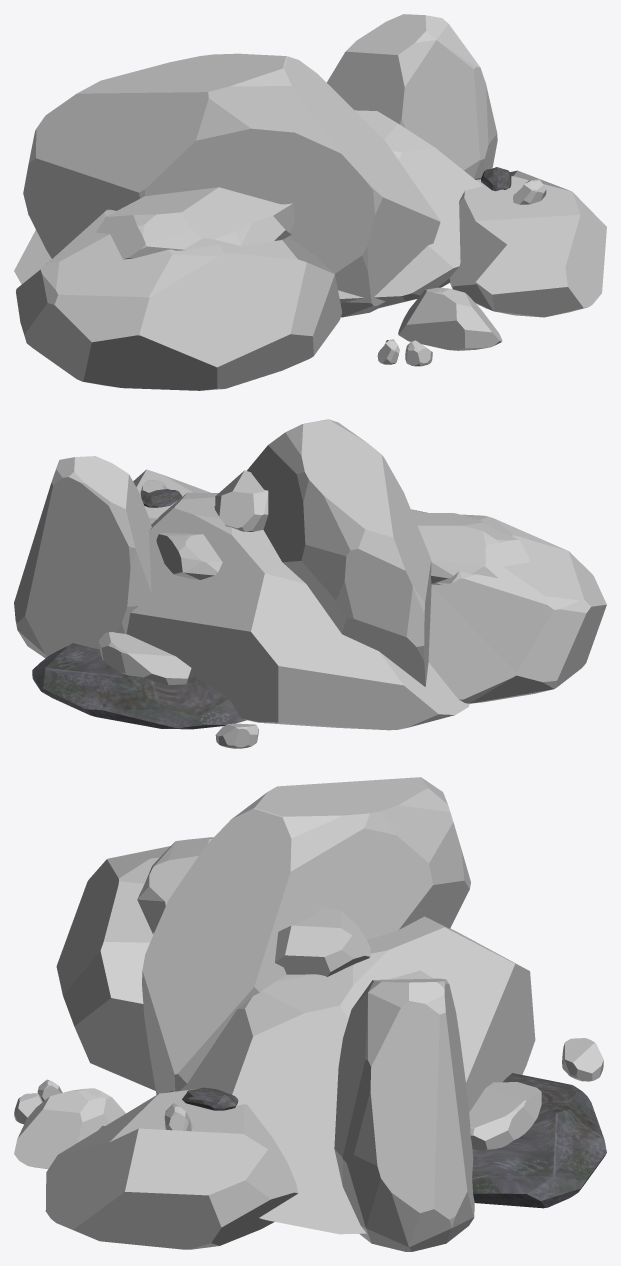
File: rock1.fbx
The picture shows the model from 3 angles, top to bottom: view 1: azimuth 30°, elevation 25°; view 2: azimuth 150°, elevation 25°; view 3: azimuth 270°, elevation 25°; orthographic projection. The views are drawn at different scales.
Visible parts, largest first — view 1: Icosphere.022, Icosphere.029, Icosphere.032, Icosphere.010, Icosphere.028, Icosphere.009, Icosphere.036, Icosphere.038, Icosphere.042, Icosphere.041; view 2: Icosphere.009, Icosphere.022, Icosphere.029, Icosphere.010, Icosphere.018, Icosphere.028, Icosphere.035, Icosphere.033, Icosphere.037, Icosphere.032, Icosphere.034, Icosphere.042; view 3: Icosphere.022, Icosphere.009, Icosphere.010, Icosphere.032, Icosphere.029, Icosphere.018, Icosphere.036, Icosphere.033, Icosphere.035, Icosphere.028, Icosphere.034, Icosphere.042.
Boxes of the visible parts, box(x1,y1,x2,y2) form: Icosphere.022: box(23, 53, 440, 317); Icosphere.029: box(16, 209, 342, 390); Icosphere.032: box(449, 170, 606, 317); Icosphere.010: box(326, 14, 497, 178); Icosphere.028: box(96, 187, 294, 259); Icosphere.009: box(14, 110, 482, 308); Icosphere.036: box(398, 287, 502, 350); Icosphere.038: box(513, 179, 546, 204); Icosphere.042: box(481, 167, 511, 191); Icosphere.041: box(405, 340, 432, 366); Icosphere.009: box(126, 492, 469, 730); Icosphere.022: box(247, 419, 431, 686); Icosphere.029: box(428, 514, 606, 703); Icosphere.010: box(14, 456, 151, 658); Icosphere.018: box(32, 643, 246, 729); Icosphere.028: box(411, 509, 529, 585); Icosphere.035: box(99, 632, 191, 685); Icosphere.033: box(214, 470, 268, 531); Icosphere.037: box(156, 533, 222, 579); Icosphere.032: box(133, 469, 210, 524); Icosphere.034: box(215, 723, 258, 748); Icosphere.042: box(141, 489, 181, 507); Icosphere.022: box(142, 777, 470, 1094); Icosphere.009: box(157, 916, 535, 1234); Icosphere.010: box(334, 978, 474, 1251); Icosphere.032: box(45, 1089, 298, 1249); Icosphere.029: box(56, 846, 170, 1090); Icosphere.018: box(472, 1073, 606, 1208); Icosphere.036: box(14, 1088, 125, 1169); Icosphere.033: box(275, 907, 370, 976); Icosphere.035: box(469, 1082, 541, 1150); Icosphere.028: box(137, 837, 213, 934); Icosphere.034: box(562, 1038, 603, 1081); Icosphere.042: box(182, 1087, 238, 1110).
Size of the model in its own units: 908 by 396 by 725.
